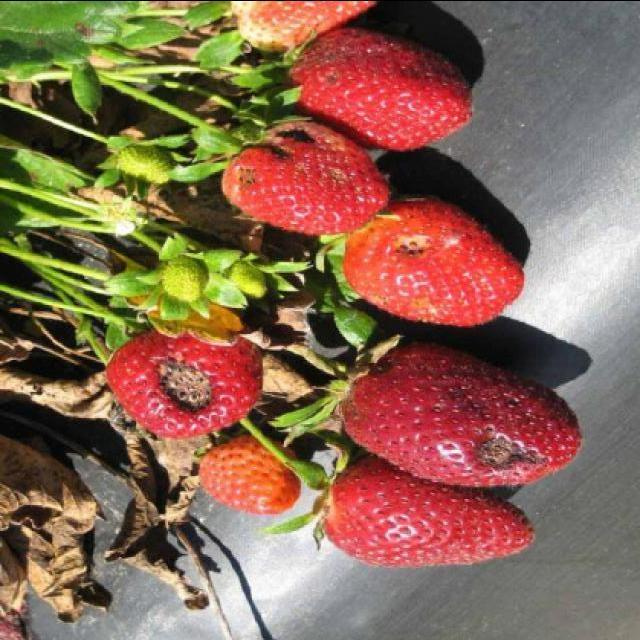Anthracnose Fruit Rot: (343, 338, 585, 486), (343, 189, 527, 328), (290, 23, 474, 152), (223, 118, 392, 235), (107, 329, 265, 431)
